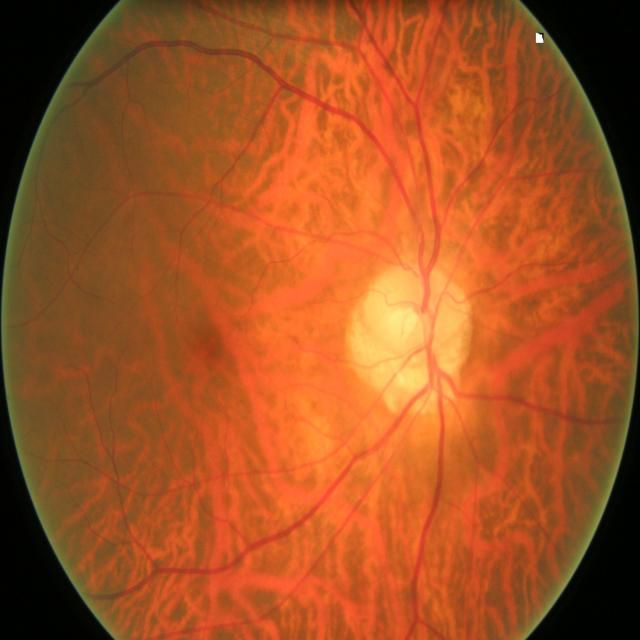OC: (396, 302, 434, 348)
OD: (360, 264, 471, 416)
